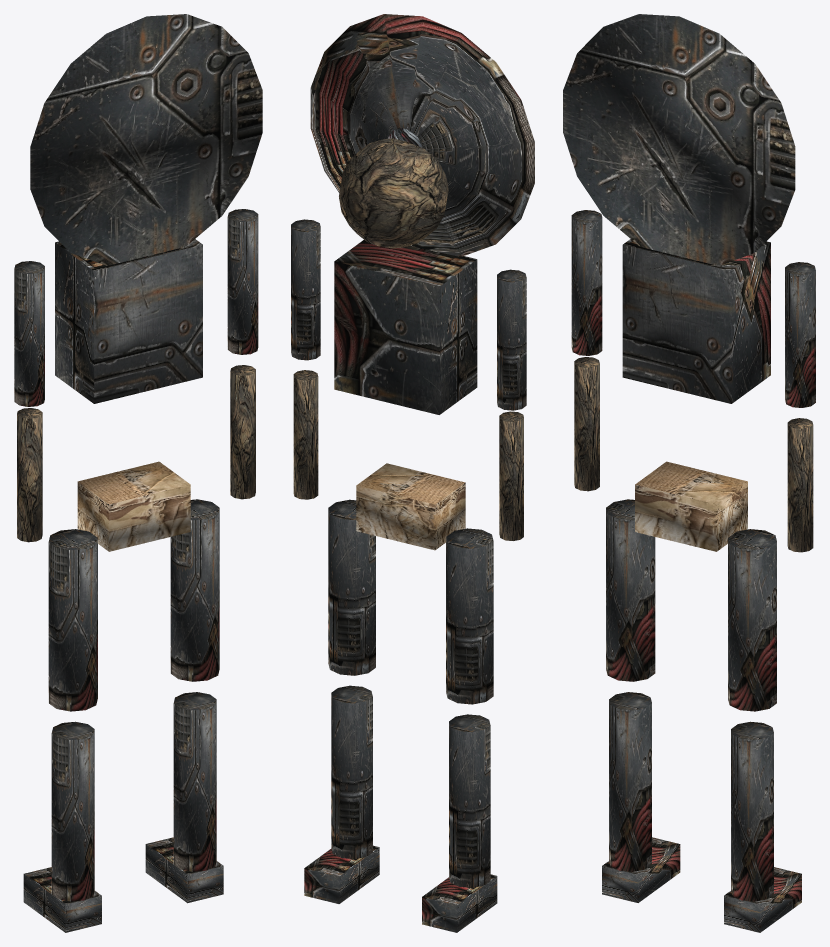
The model's file is cyborg_screamer.glb.
The picture shows the model from 3 angles, left to right: view 1: azimuth 30°, elevation 25°; view 2: azimuth 150°, elevation 25°; view 3: azimuth 330°, elevation 25°; orthographic projection. The views are drawn at different scales.
Parts seen in each view (by area): view 1: Disruptor_Dish, Chest_Body, Thigh_L, Thigh_R, Pelvis_Core, Shin_L, Shin_R, Arm_R, Arm_L, Forearm_R, Forearm_L, Boot_R (+1 smaller); view 2: Disruptor_Dish, Chest_Body, Head_Core, Thigh_L, Thigh_R, Pelvis_Core, Shin_R, Shin_L, Arm_R, Arm_L, Forearm_R, Forearm_L (+2 smaller); view 3: Disruptor_Dish, Chest_Body, Thigh_R, Thigh_L, Pelvis_Core, Shin_R, Shin_L, Arm_L, Arm_R, Forearm_R, Forearm_L, Boot_L (+1 smaller).
Part boxes in pixels (x1,y1,x2,y2): Disruptor_Dish: (30, 14, 262, 265); Chest_Body: (55, 239, 202, 403); Thigh_L: (48, 529, 97, 711); Thigh_R: (170, 499, 219, 681); Pelvis_Core: (77, 461, 190, 551); Shin_L: (51, 721, 94, 901); Shin_R: (173, 692, 216, 871); Arm_R: (227, 209, 258, 354); Arm_L: (14, 261, 44, 406); Forearm_R: (230, 365, 255, 499); Forearm_L: (17, 408, 42, 542); Boot_R: (145, 837, 223, 903); Disruptor_Dish: (310, 14, 534, 256); Chest_Body: (334, 240, 477, 414); Head_Core: (339, 138, 448, 248); Thigh_L: (446, 528, 493, 704); Thigh_R: (328, 499, 375, 675); Pelvis_Core: (356, 463, 465, 550); Shin_R: (331, 685, 372, 859); Shin_L: (449, 714, 490, 887); Arm_R: (291, 219, 320, 360); Arm_L: (497, 269, 526, 410); Forearm_R: (293, 370, 318, 499); Forearm_L: (499, 411, 523, 540); Disruptor_Dish: (563, 14, 795, 265); Chest_Body: (622, 239, 770, 403); Thigh_R: (728, 529, 776, 711); Thigh_L: (606, 499, 655, 681); Pelvis_Core: (635, 461, 747, 551); Shin_R: (731, 721, 773, 901); Shin_L: (609, 692, 651, 871); Arm_L: (571, 210, 602, 355); Arm_R: (785, 262, 815, 407); Forearm_R: (787, 418, 813, 552); Forearm_L: (574, 357, 599, 491); Boot_L: (602, 837, 680, 902).
Bounding box in the file's own units: 0.5275 × 1.89 × 0.238.
4 materials, 4 textured.
